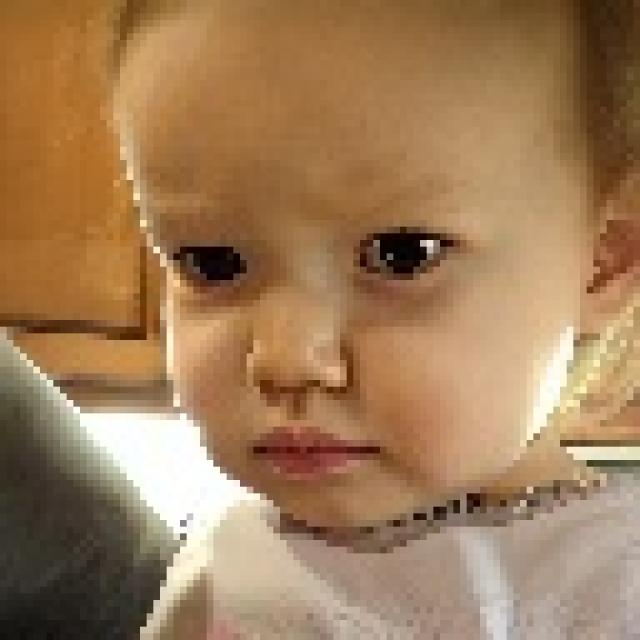angry: (93, 60, 640, 513)
